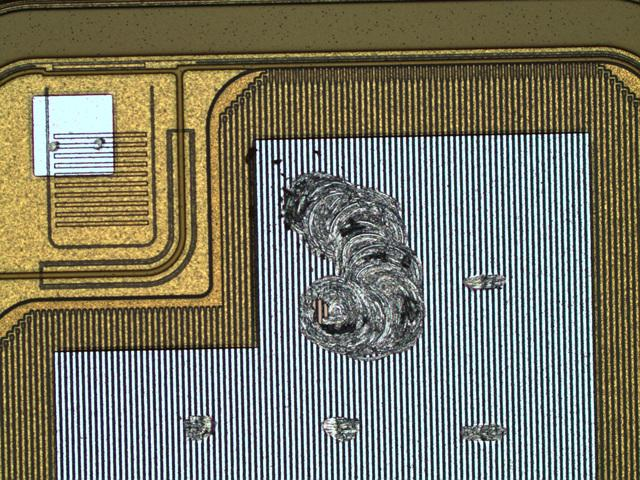SCRATCH: (155, 146, 516, 450)
